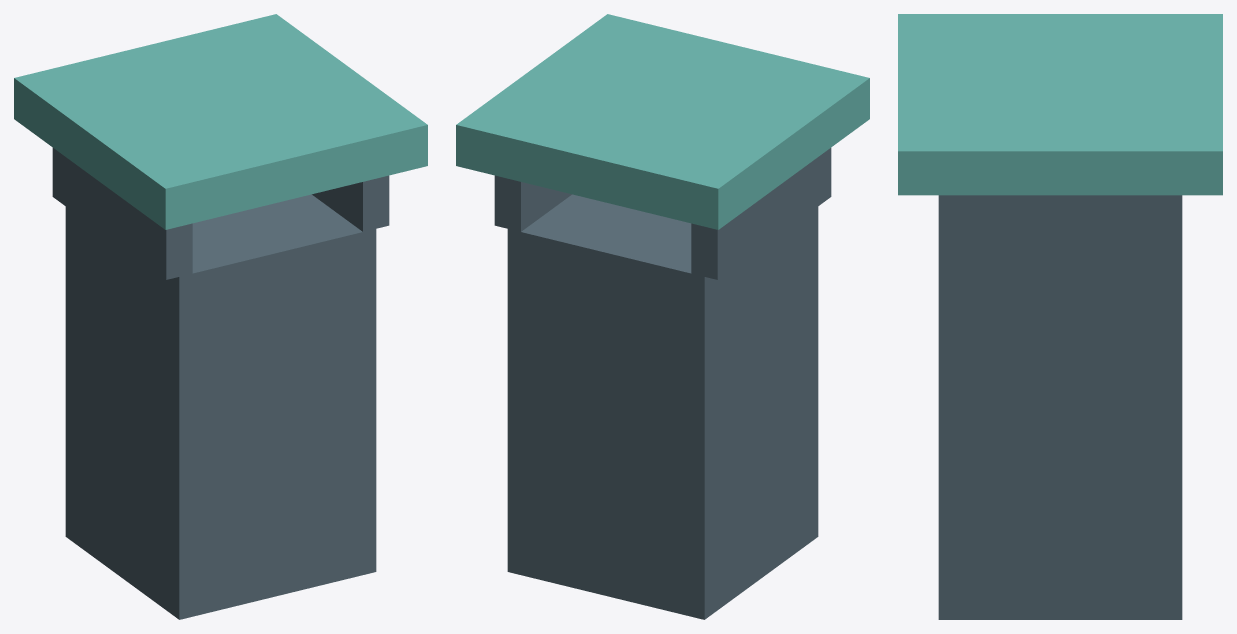
The model's file is voxel-city-districts-street-bin-173b4017__24848.glb.
3 views of the same model, side by side, from view 1: azimuth 30°, elevation 25°; view 2: azimuth 150°, elevation 25°; view 3: azimuth 270°, elevation 25° (orthographic). The views are drawn at different scales.
Parts seen in each view (by area): view 1: street-bin-dark, street-bin-accent; view 2: street-bin-dark, street-bin-accent; view 3: street-bin-dark, street-bin-accent.
Boxes of the visible parts, left/top/right/bottom form: street-bin-dark: left=52, top=148, right=389, bottom=619; street-bin-accent: left=14, top=14, right=427, bottom=229; street-bin-dark: left=494, top=148, right=831, bottom=619; street-bin-accent: left=456, top=14, right=869, bottom=229; street-bin-dark: left=938, top=195, right=1182, bottom=619; street-bin-accent: left=898, top=14, right=1222, bottom=195.
Size of the model in its own units: 0.8 by 1.32 by 0.8.
